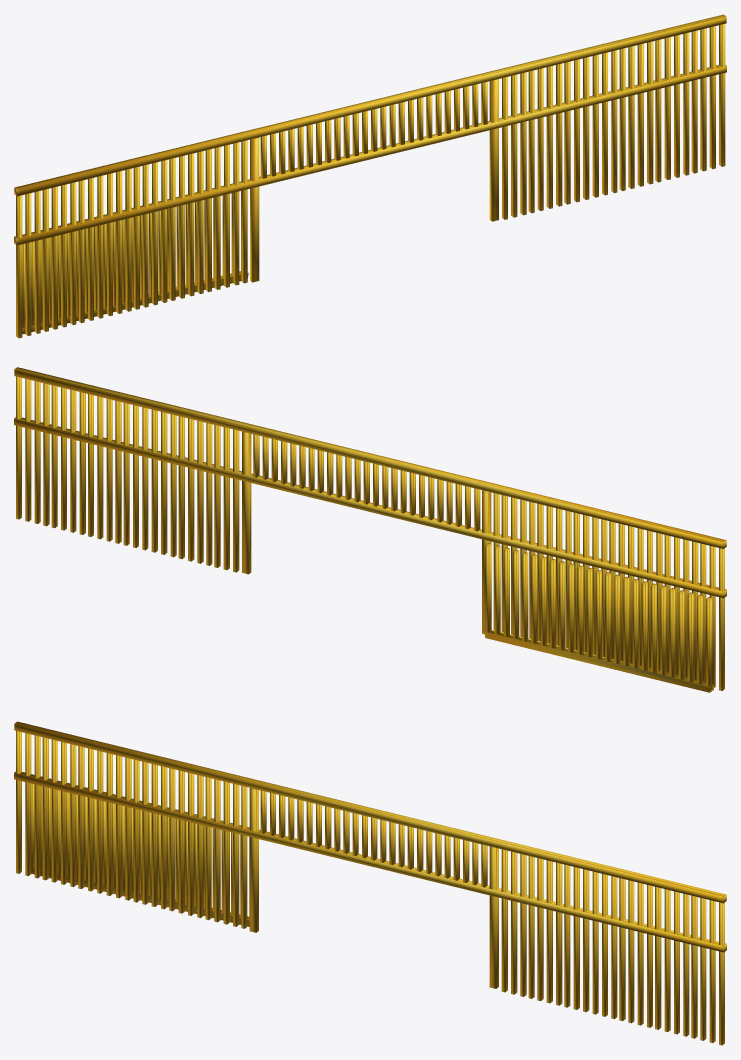
Rendered from reja.obj.
3 views of the same model, one above another, from view 1: azimuth 30°, elevation 25°; view 2: azimuth 150°, elevation 25°; view 3: azimuth 330°, elevation 25° (orthographic).
Parts seen in each view (by area): view 1: Box082, Box001, Box002, Box029, Box026, Box038, Box004, Box008, Box045, Box055, Box003, Box019 (+44 smaller); view 2: Box082, Box001, riel, Box029, Box048, Box052, Box055, Box034, Box032, Box037, Box040, Box045 (+67 smaller); view 3: Box082, Box001, Box002, Box029, Box053, Box027, Box049, Box006, Box009, Box010, Box014, Box017 (+44 smaller).
Boxes of the visible parts, left/top/right/bottom form: Box082: left=14, top=14, right=726, bottom=196; Box001: left=14, top=65, right=726, bottom=245; Box002: left=250, top=137, right=259, bottom=282; Box029: left=489, top=79, right=498, bottom=221; Box026: left=16, top=195, right=22, bottom=338; Box038: left=647, top=41, right=653, bottom=184; Box004: left=233, top=142, right=239, bottom=285; Box008: left=188, top=153, right=194, bottom=296; Box045: left=655, top=39, right=661, bottom=182; Box055: left=564, top=61, right=570, bottom=204; Box003: left=241, top=140, right=247, bottom=283; Box019: left=97, top=175, right=103, bottom=318; Box082: left=14, top=367, right=726, bottom=548; Box001: left=14, top=417, right=726, bottom=598; riel: left=484, top=629, right=714, bottom=692; Box029: left=242, top=431, right=251, bottom=574; Box048: left=178, top=416, right=184, bottom=559; Box052: left=223, top=427, right=229, bottom=570; Box055: left=170, top=414, right=176, bottom=557; Box034: left=51, top=385, right=57, bottom=528; Box032: left=25, top=378, right=31, bottom=521; Box037: left=43, top=383, right=49, bottom=526; Box040: left=106, top=398, right=112, bottom=541; Box045: left=79, top=392, right=85, bottom=534; Box082: left=14, top=721, right=726, bottom=903; Box001: left=14, top=771, right=726, bottom=952; Box002: left=249, top=788, right=258, bottom=932; Box029: left=489, top=846, right=498, bottom=988; Box053: left=501, top=849, right=507, bottom=992; Box027: left=42, top=737, right=48, bottom=880; Box049: left=546, top=860, right=552, bottom=1003; Box006: left=214, top=779, right=220, bottom=922; Box009: left=178, top=770, right=184, bottom=913; Box010: left=205, top=777, right=211, bottom=920; Box014: left=125, top=757, right=131, bottom=900; Box017: left=133, top=759, right=139, bottom=902.
Bounding box in the file's own units: 266 × 53.88 × 4.78.
1 material, 1 textured.
